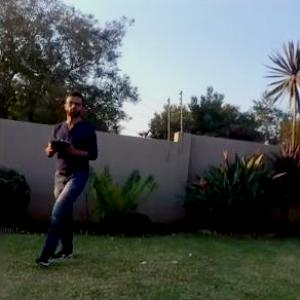follow: (31, 83, 102, 270)
